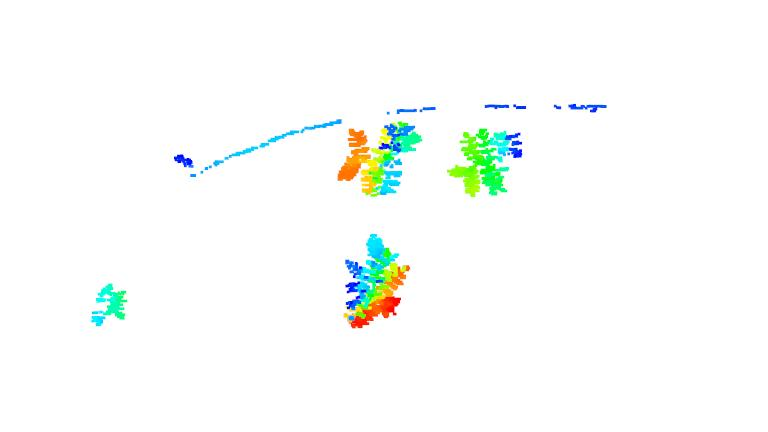chickpea: (338, 231, 412, 330), (334, 118, 424, 199), (445, 126, 524, 201), (86, 280, 133, 329)
